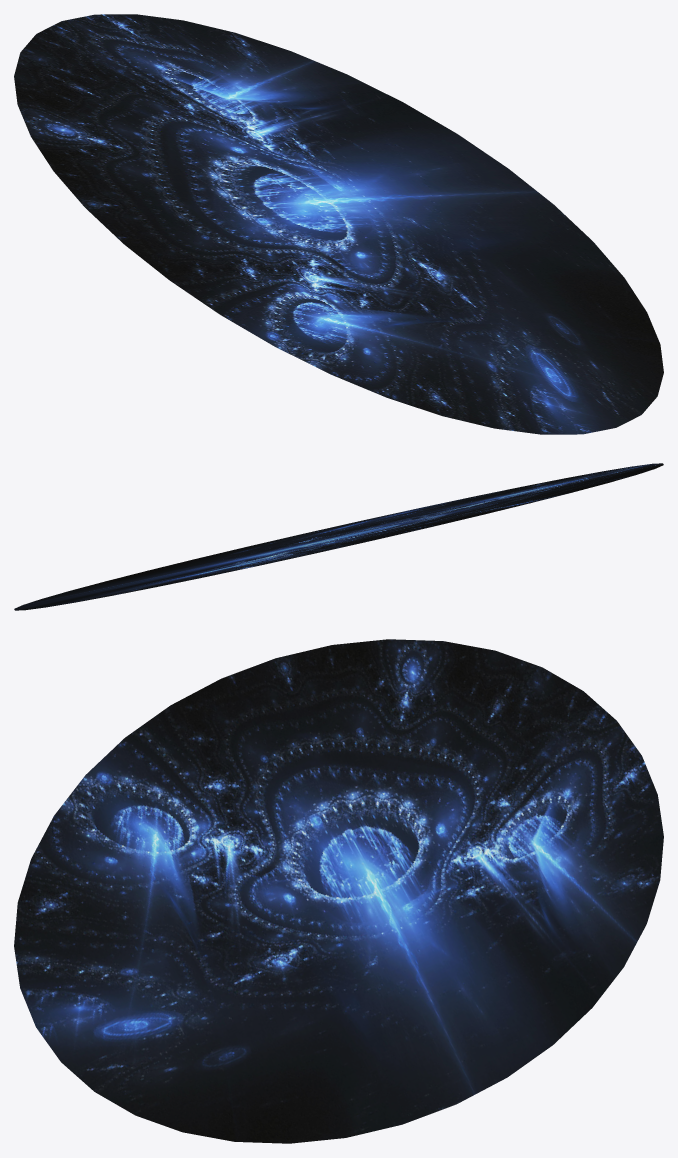
File: portal.fbx
3 views of the same model, one above another, from view 1: azimuth 30°, elevation 25°; view 2: azimuth 150°, elevation 25°; view 3: azimuth 270°, elevation 25° (orthographic). The views are drawn at different scales.
Parts seen in each view (by area): view 1: Disc; view 2: Disc; view 3: Disc.
Boxes of the visible parts, x1,y1,x2,y2 form: Disc: [14, 14, 663, 434]; Disc: [14, 463, 663, 610]; Disc: [14, 639, 663, 1143].
Size of the model in its own units: 396 by 189 by 419.
1 material, 1 textured.
